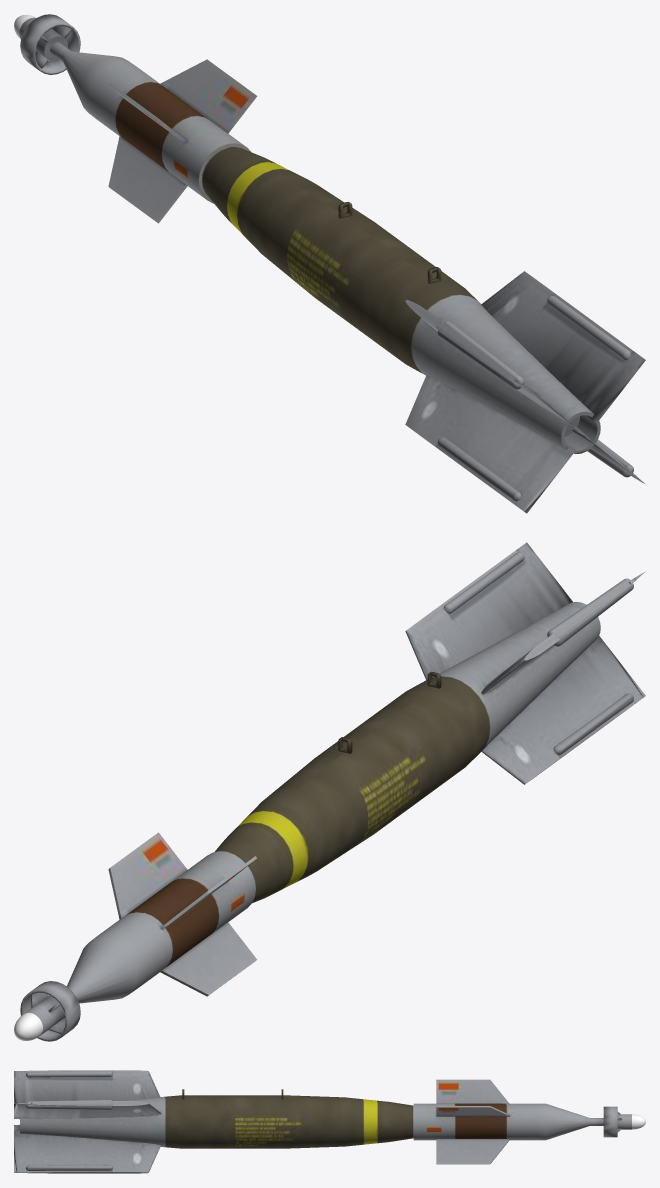
3 views of the same model, one above another, from view 1: azimuth 30°, elevation 25°; view 2: azimuth 150°, elevation 25°; view 3: azimuth 270°, elevation 25° (orthographic). The views are drawn at different scales.
Visible parts, largest first — view 1: mk82lb_body; view 2: mk82lb_body; view 3: mk82lb_body.
Part boxes in pixels (x1=…): mk82lb_body: x1=14, y1=14, x2=645, y2=513; mk82lb_body: x1=14, y1=542, x2=645, y2=1041; mk82lb_body: x1=14, y1=1070, x2=645, y2=1173.
Size of the model in its own units: 0.4207 by 0.4207 by 3.32.
Materials: 2 (2 with a texture image).
